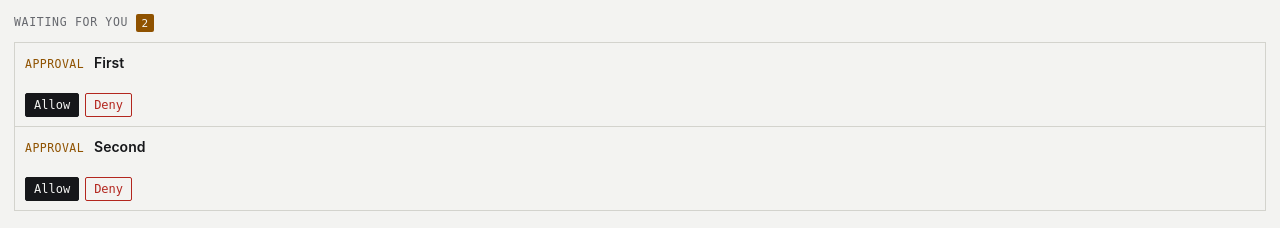
Test: RequestTray › names the answer on its way
Click the 1st button "Deny" at (109, 105), box 85,93 -> 132,117
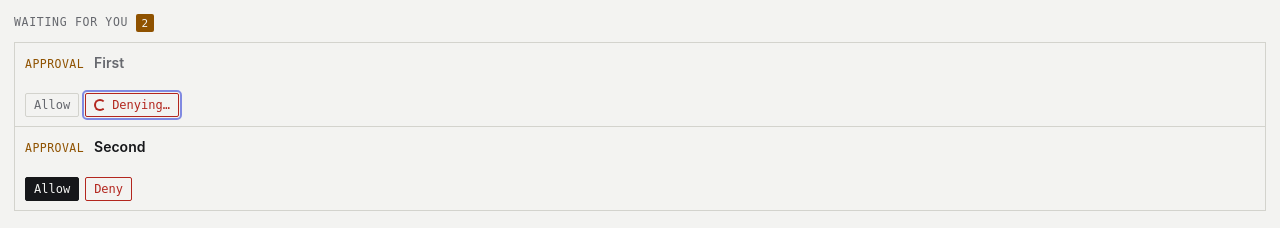
Expected: the 2nd button "Allow" is enabled, 25,177 -> 79,201
Expected: the 1st button "Allow" is disabled, 25,93 -> 79,117
